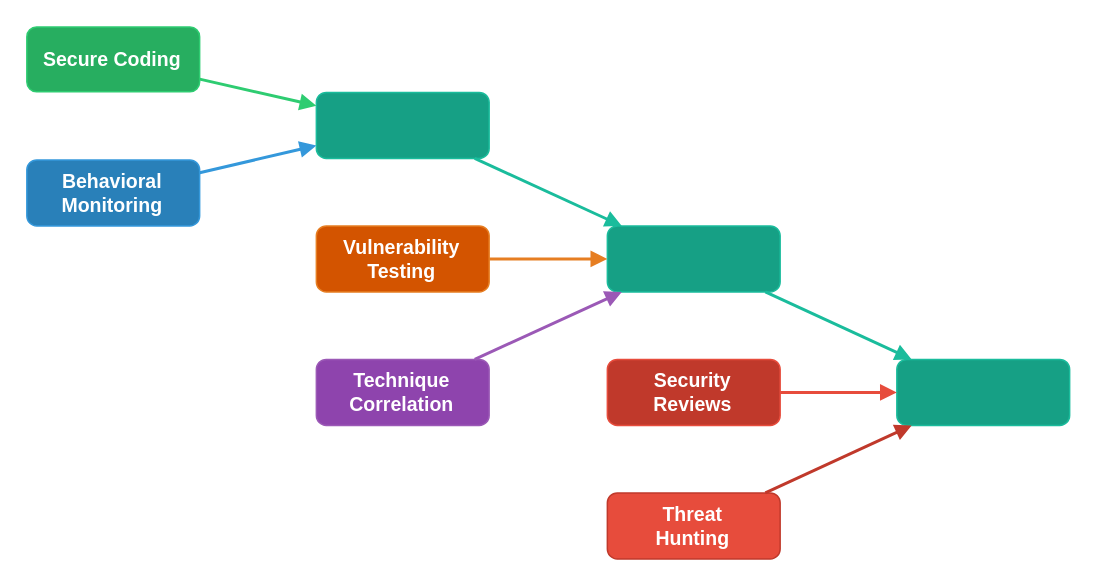
Image size: 1097x585. Some labels were removed from this diagram. The box of each missing label's shape, as (x1, y1, x2, y2) in pixels:
Monitor by Behavior: (606, 224, 780, 292)
Respond by Intelligence: (895, 358, 1070, 425)
Secure by Design: (315, 91, 489, 158)
